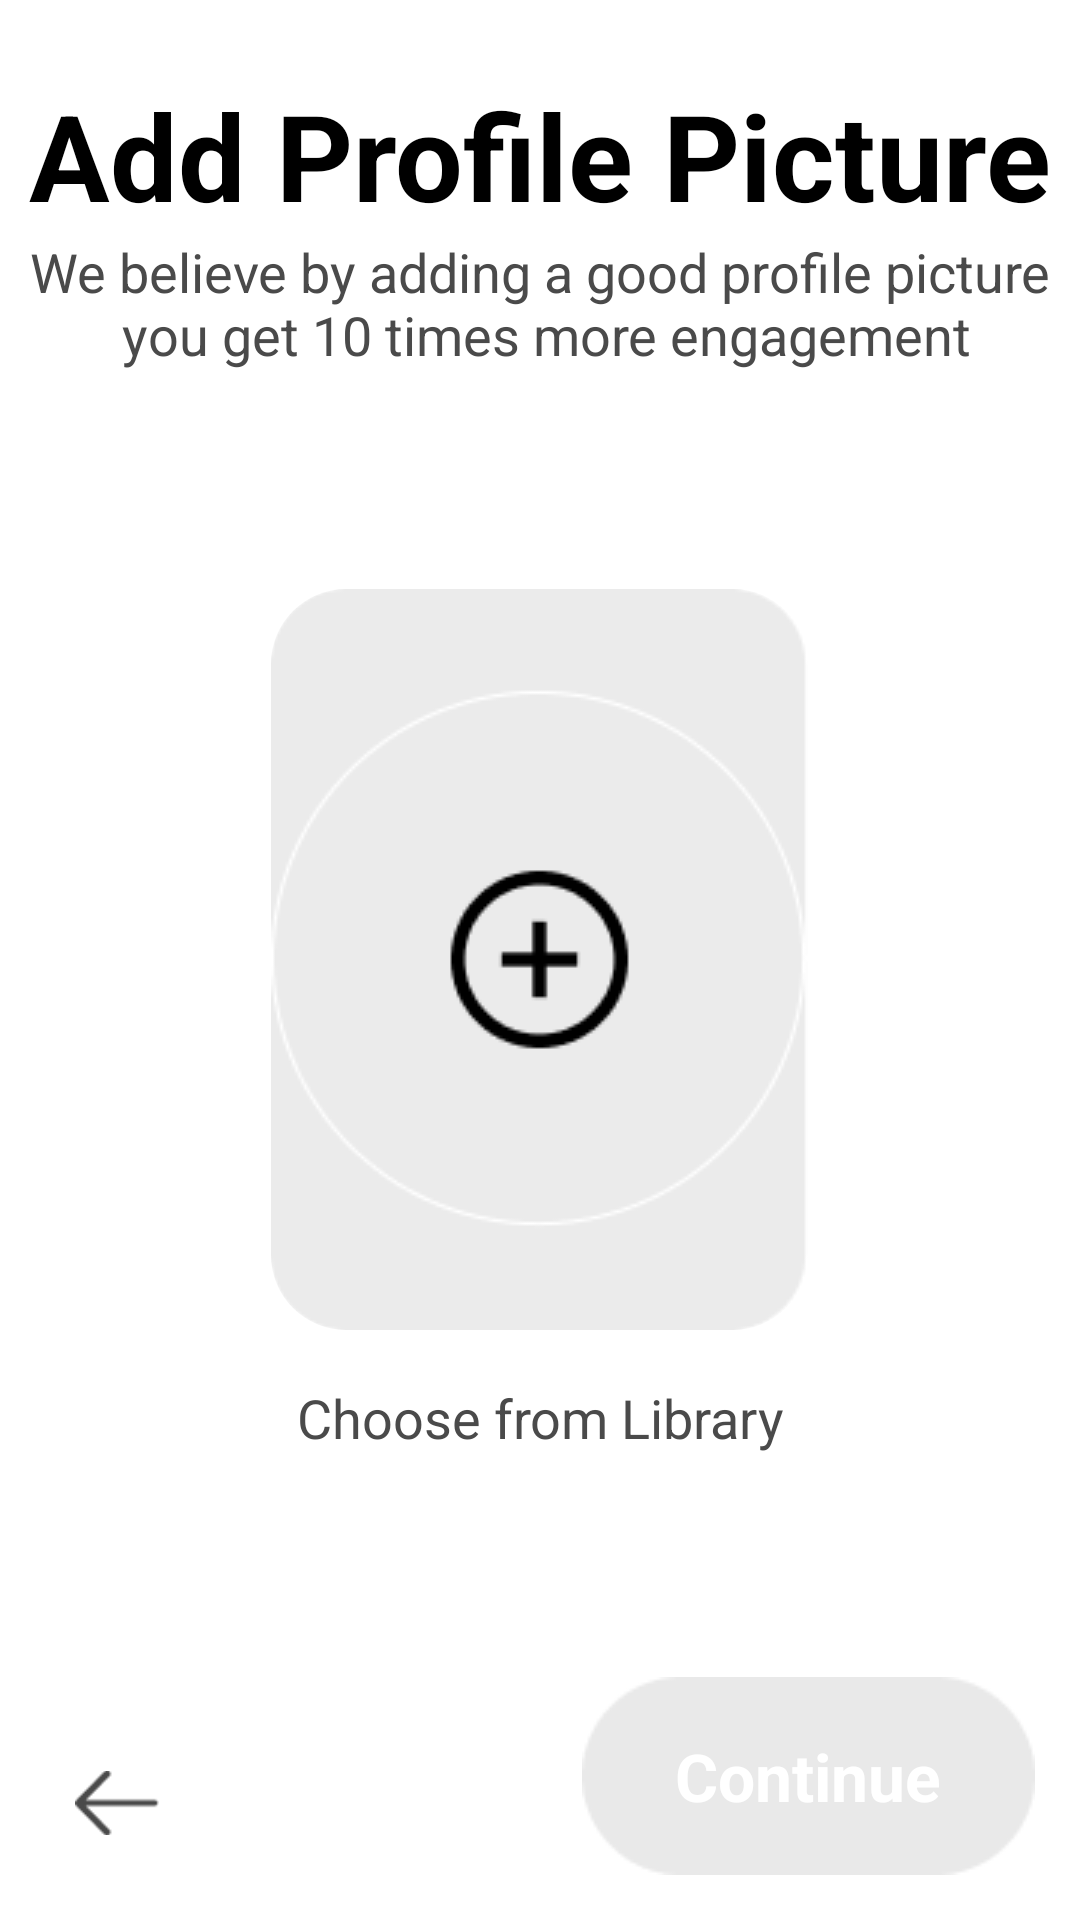

Icons on this 1080×1920 Android screen, each with its box as (x1, y1, x2, y2):
left arrow: (75, 1771, 159, 1835)
